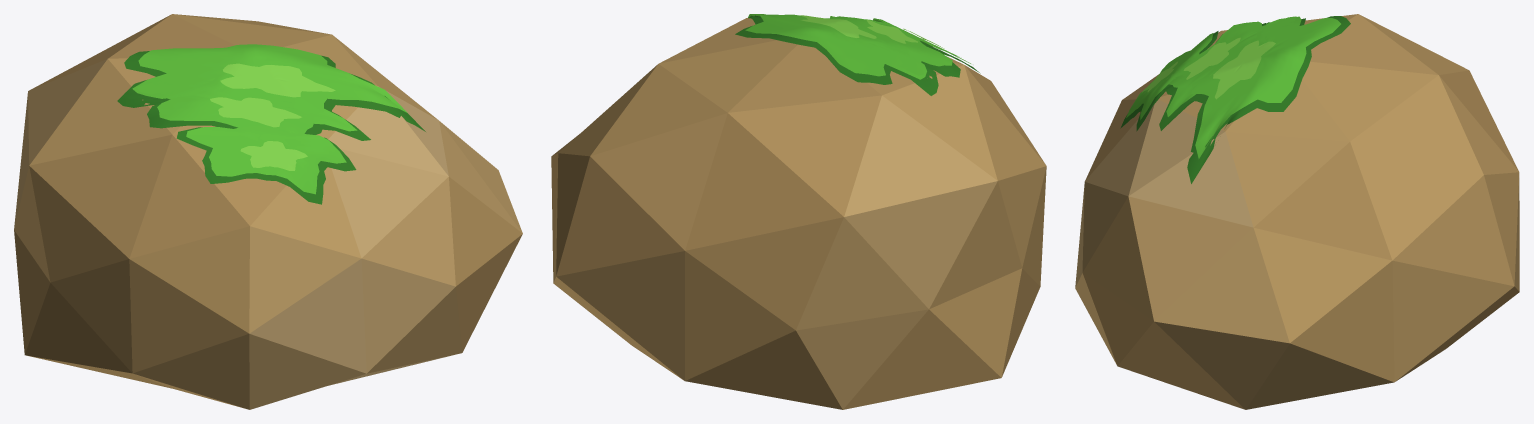
Rendered from rock_2_streak.glb.
The picture shows the model from 3 angles, left to right: view 1: azimuth 30°, elevation 25°; view 2: azimuth 150°, elevation 25°; view 3: azimuth 270°, elevation 25°; orthographic projection. The views are drawn at different scales.
Parts seen in each view (by area): view 1: rock_2_streak; view 2: rock_2_streak; view 3: rock_2_streak.
Boxes of the visible parts, x1,y1,x2,y2 form: rock_2_streak: (14, 14, 522, 409); rock_2_streak: (551, 14, 1046, 409); rock_2_streak: (1075, 14, 1519, 409).
Bounding box in the file's own units: 1.89 × 1.19 × 1.67.
